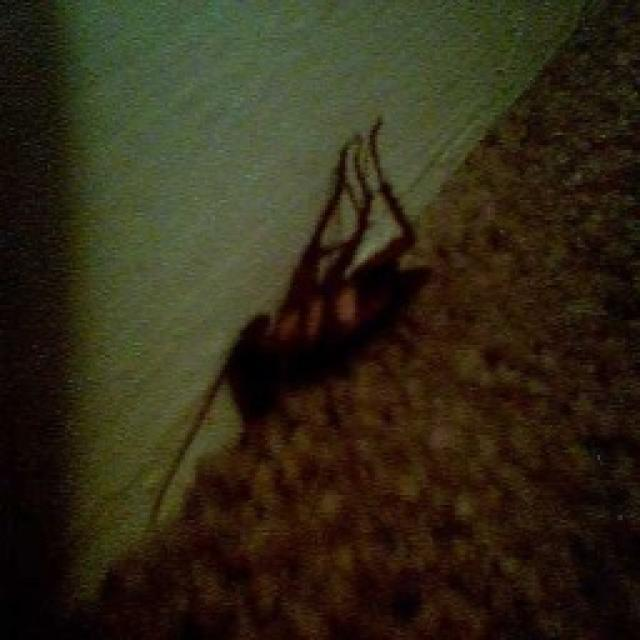cockroach: (187, 110, 463, 450)
